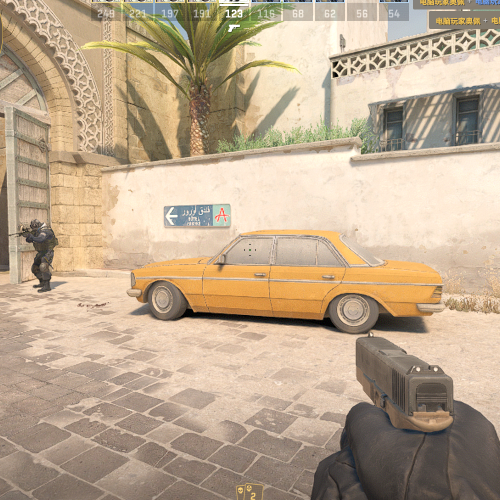ct_body: (21, 218, 56, 294)
ct_head: (29, 219, 42, 231)
